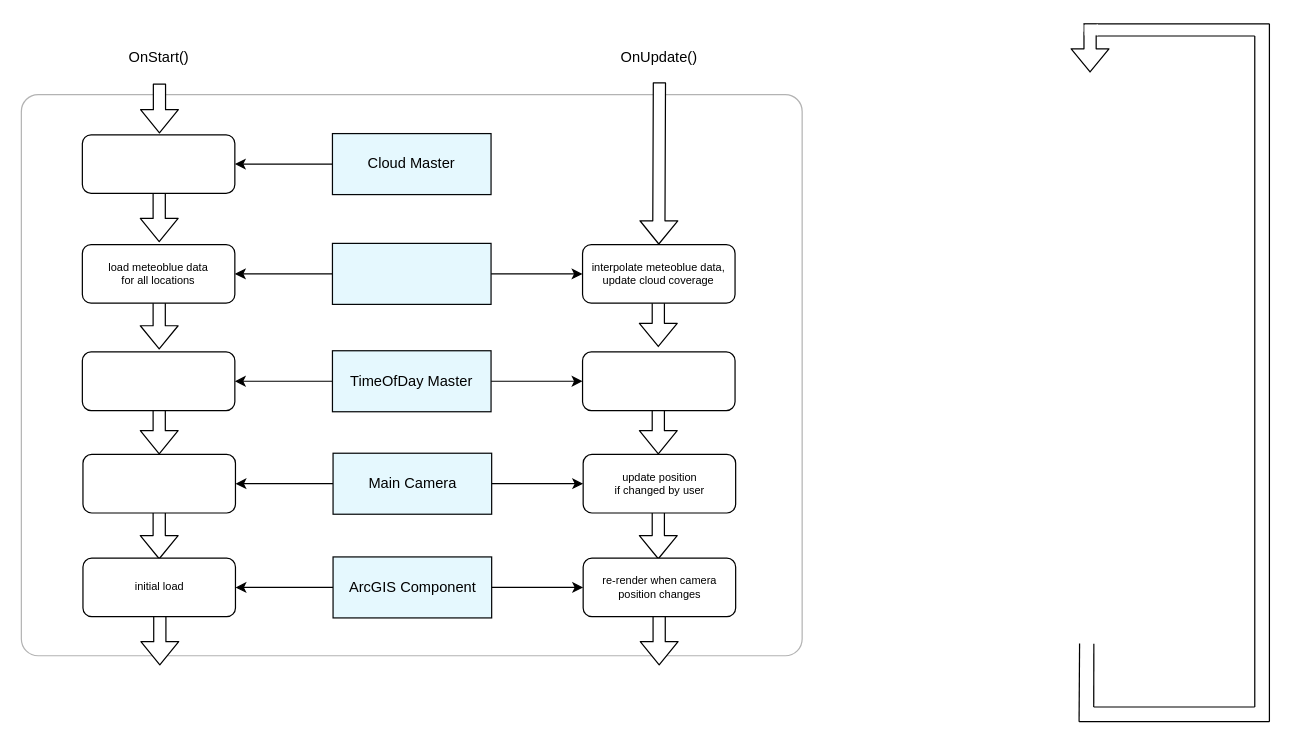
Some shapes in this 1292 by 744 pixel diagram are drawn without their labels. Each missing label, with the centre of its shape:
"calculate 3D noise" belongs at pixel 158 163.
"Meteoblue Master" belongs at pixel 411 273.
"set initial position" belongs at pixel 158 483.
"set simulation time to current time" belongs at pixel 158 381.
"update skybox, update cloud colors, update proxy objects" belongs at pixel 658 381.
